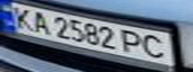2: (48, 14, 72, 40), (97, 24, 118, 51)
5: (66, 17, 84, 43)
8: (81, 20, 100, 47)
A: (27, 9, 54, 36)
C: (139, 33, 172, 60)
K: (6, 6, 36, 30)
P: (118, 28, 148, 55)
